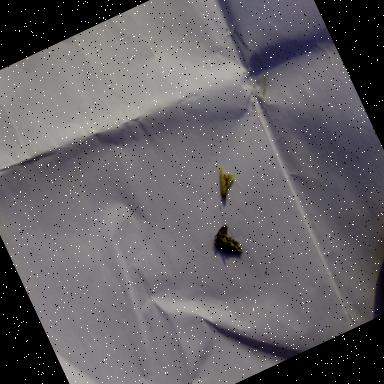pbw: (206, 220, 246, 262), (209, 160, 244, 201)
